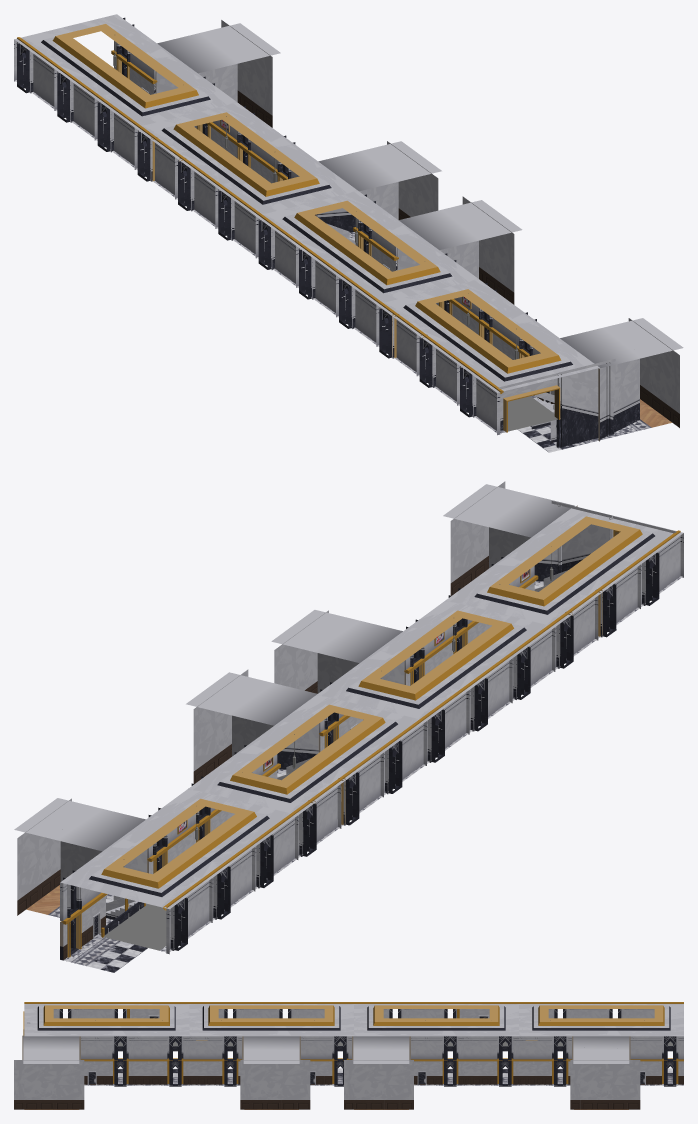
File: AdrienMansion_UpperFloor.fbx
The picture shows the model from 3 angles, top to bottom: view 1: azimuth 30°, elevation 25°; view 2: azimuth 150°, elevation 25°; view 3: azimuth 270°, elevation 25°; orthographic projection. The views are drawn at different scales.
Parts seen in each view (by area): view 1: AdrienMansion_UpperFloor; view 2: AdrienMansion_UpperFloor; view 3: AdrienMansion_UpperFloor.
Part boxes in pixels (<box>): AdrienMansion_UpperFloor: <box>14,14,683,452</box>; AdrienMansion_UpperFloor: <box>14,481,683,972</box>; AdrienMansion_UpperFloor: <box>14,1002,683,1109</box>.
Bounding box in the file's own units: 13537 × 5970 × 60932.
